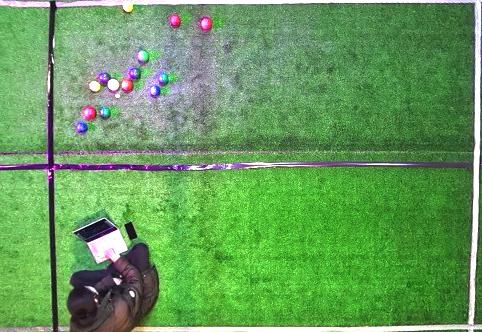blue: (76, 123, 88, 133), (150, 86, 160, 96)
green: (138, 50, 149, 62), (129, 68, 141, 79), (158, 73, 169, 84), (100, 107, 111, 118), (99, 73, 111, 83)
red: (107, 78, 120, 91), (84, 106, 96, 119), (201, 17, 212, 31), (170, 15, 181, 27), (121, 80, 133, 91)
vline: (1, 1, 60, 331), (465, 1, 481, 331)
white: (115, 93, 120, 98)
yellow: (89, 81, 101, 92), (123, 1, 133, 12)
